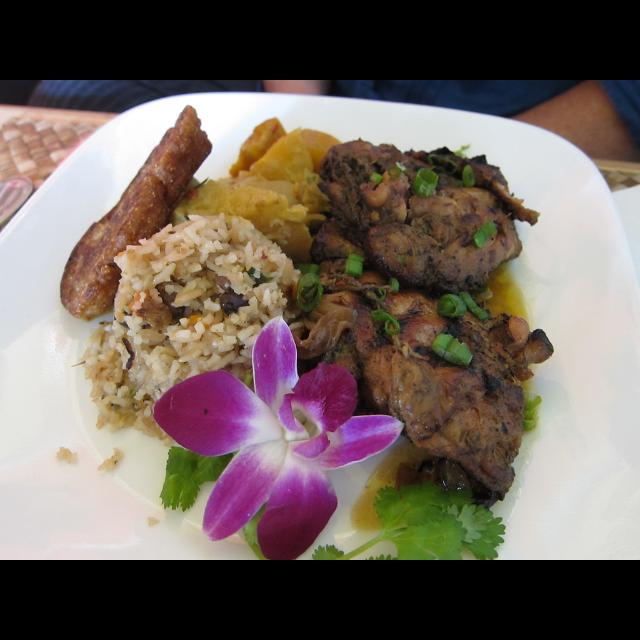Flower: (164, 311, 390, 535)
